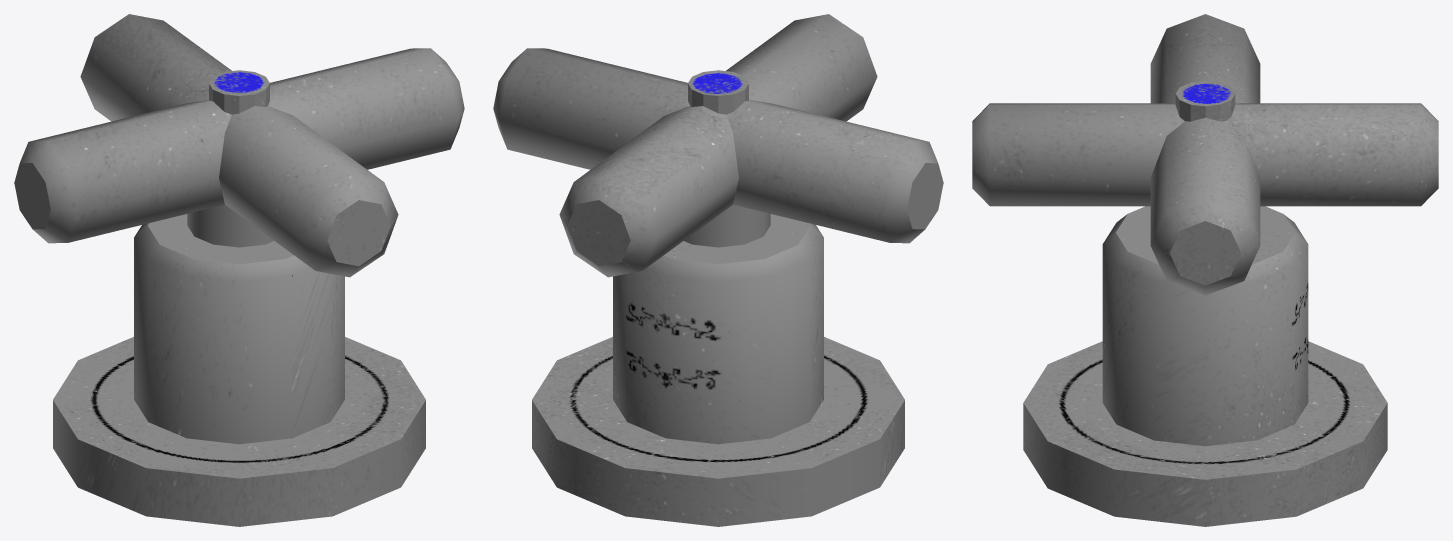
Rendered from watertap_BLUE.fbx.
3 renders of one model, left to right at view 1: azimuth 30°, elevation 25°; view 2: azimuth 150°, elevation 25°; view 3: azimuth 270°, elevation 25°, orthographic. The views are drawn at different scales.
Visible parts, largest first — view 1: watertap_BLUE; view 2: watertap_BLUE; view 3: watertap_BLUE.
Boxes of the visible parts, box(x1,y1,x2,y2) form: watertap_BLUE: box(14, 14, 464, 526); watertap_BLUE: box(493, 14, 943, 526); watertap_BLUE: box(972, 14, 1438, 526).
Size of the model in its own units: 6.82 by 5.74 by 6.82.
